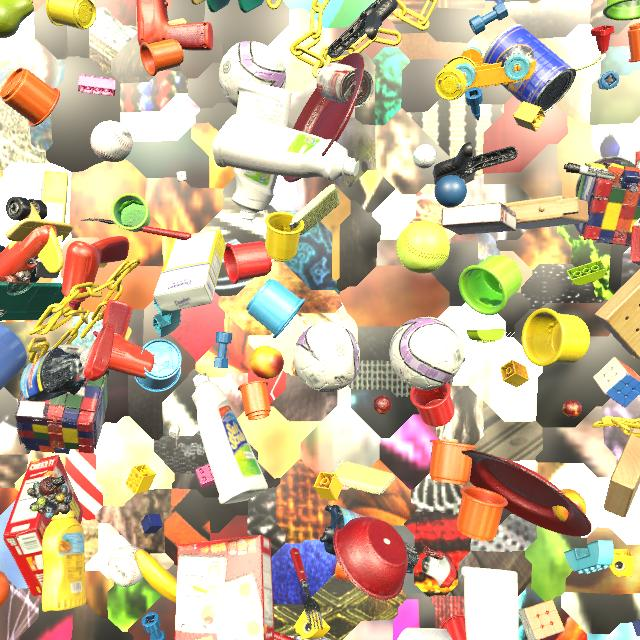ycb_002_master_chef_can: (482, 24, 576, 113)
ycb_003_cracker_box: (3, 455, 84, 596), (175, 535, 274, 640), (630, 151, 640, 266)
ycb_004_sugar_box: (153, 230, 226, 311), (36, 171, 68, 279)
ycb_005_tomato_soup_can: (316, 63, 374, 108)
ycb_006_mustard_bottle: (42, 510, 87, 612)
ycb_008_pudding_box: (441, 202, 516, 235)
ycb_011_banana: (134, 549, 177, 603)
ycb_015_peach: (249, 346, 284, 379), (552, 489, 587, 521)
ycb_016_pear: (0, 0, 34, 38)
ycb_017_orange: (0, 571, 10, 607)
